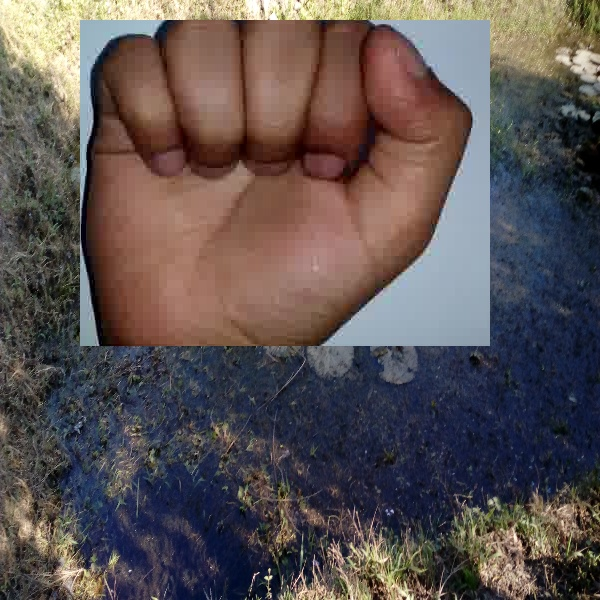A: (80, 20, 490, 346)
